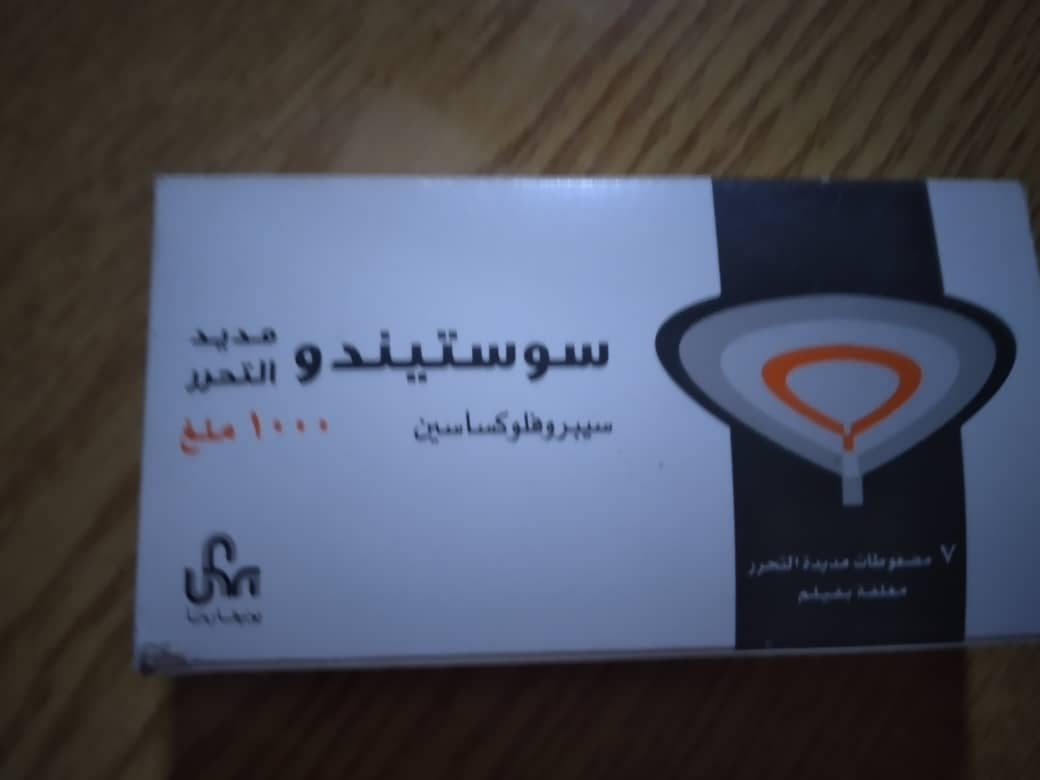Medicine: (110, 150, 1040, 676)
